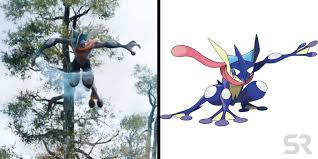greninja: (160, 34, 318, 134), (31, 25, 145, 108)
